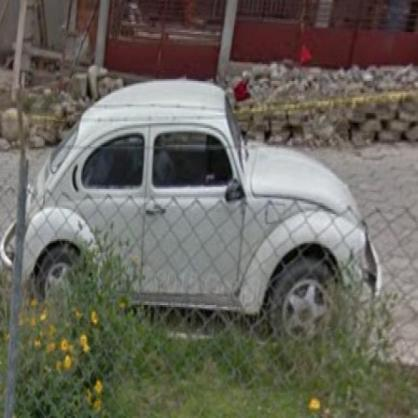car: (7, 84, 381, 341)
